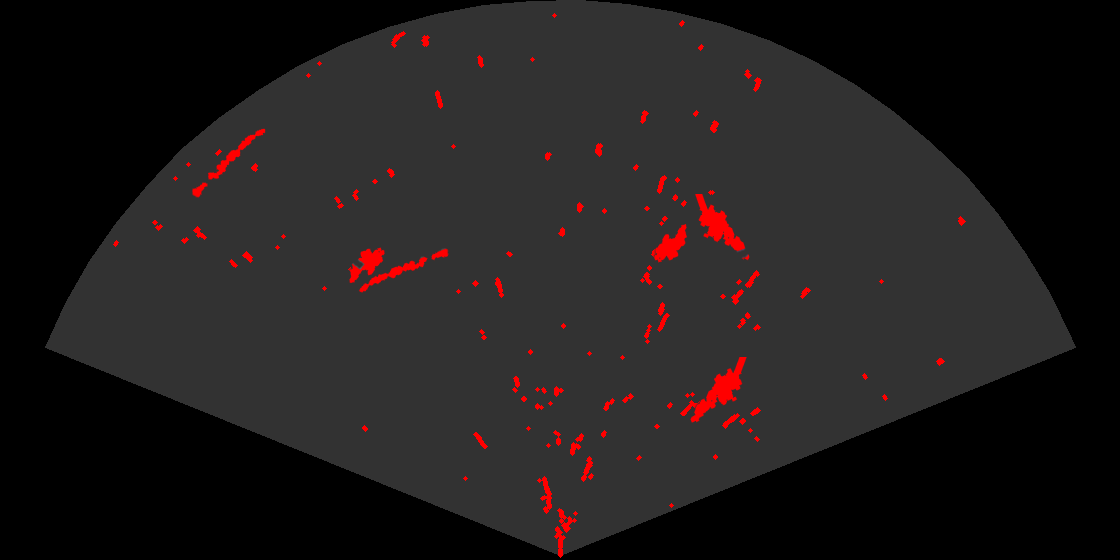AUV: (652, 222, 689, 264), (348, 246, 386, 285)
chain: (191, 127, 267, 199), (357, 247, 450, 294)
frogman: (689, 357, 748, 424), (694, 194, 751, 262)
